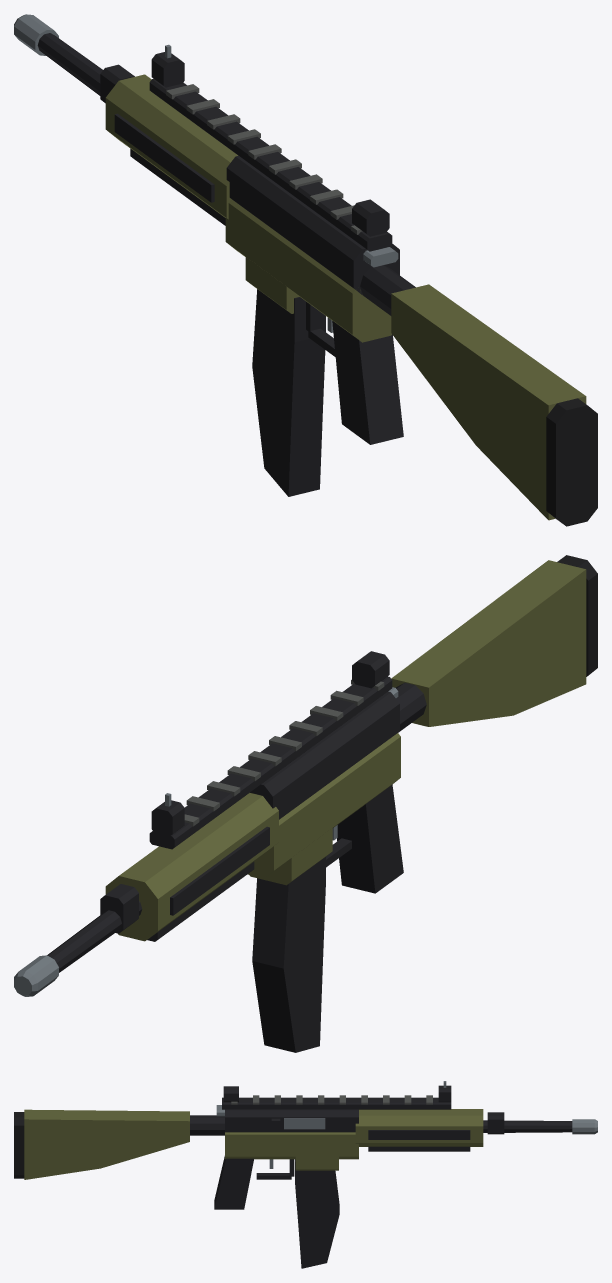
Rendered from army_rifle.glb.
3 renders of one model, top to bottom at view 1: azimuth 30°, elevation 25°; view 2: azimuth 150°, elevation 25°; view 3: azimuth 270°, elevation 25°, orthographic. The views are drawn at different scales.
Visible parts, largest first — view 1: army_rifle, mag; view 2: army_rifle, mag; view 3: army_rifle, mag.
Part boxes in pixels (bbox=[...]): army_rifle: bbox=[14, 14, 597, 526]; mag: bbox=[252, 289, 325, 496]; army_rifle: bbox=[14, 555, 597, 996]; mag: bbox=[252, 857, 325, 1052]; army_rifle: bbox=[14, 1081, 597, 1209]; mag: bbox=[295, 1159, 339, 1268].
Size of the model in its own units: 0.058 by 0.317 by 0.916.
2 materials, 2 textured.
